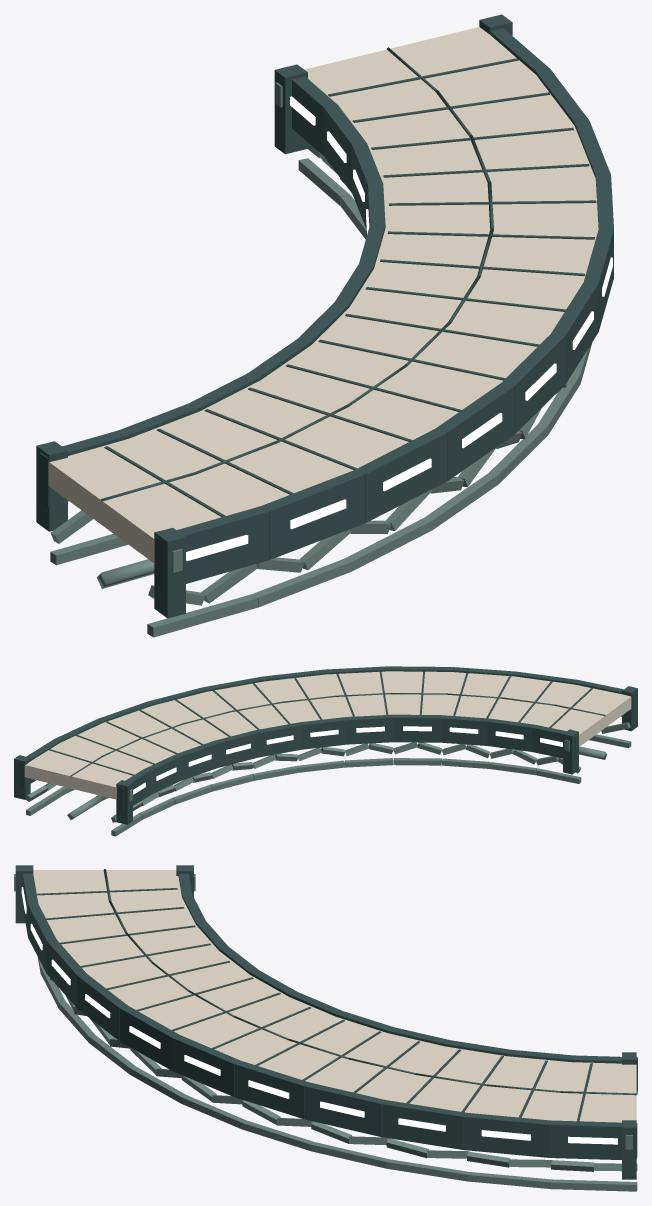
The model's file is Curve_W90_lab.glb.
3 renders of one model, top to bottom at view 1: azimuth 30°, elevation 25°; view 2: azimuth 150°, elevation 25°; view 3: azimuth 270°, elevation 25°, orthographic. The views are drawn at different scales.
Parts seen in each view (by area): view 1: Curve_W90; view 2: Curve_W90; view 3: Curve_W90.
Part boxes in pixels (<box>): Curve_W90: <box>36,14,615,637</box>; Curve_W90: <box>14,666,637,836</box>; Curve_W90: <box>14,865,637,1191</box>.
Size of the model in its own units: 11.95 by 1.52 by 11.95.
